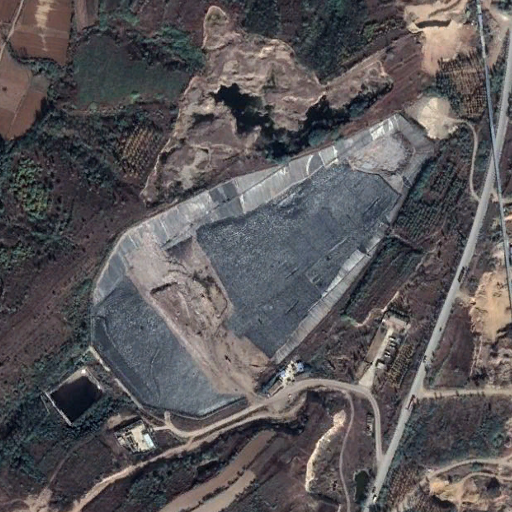lf: (92, 118, 433, 414)
